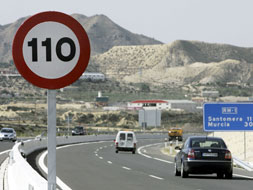Speed_limit_110km: (11, 11, 91, 89)
car: (171, 134, 234, 182)
